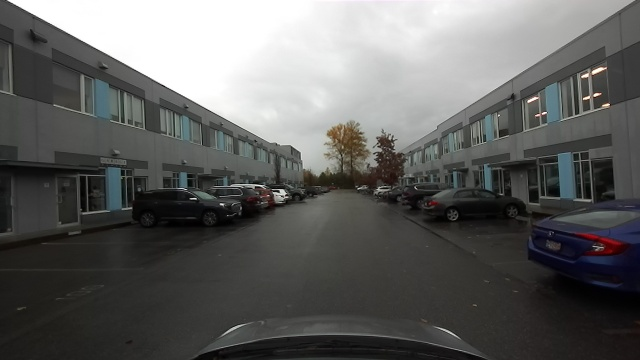car: (527, 201, 639, 290), (135, 188, 243, 226), (422, 186, 524, 224), (239, 187, 267, 212), (395, 185, 421, 210), (290, 187, 307, 204)
